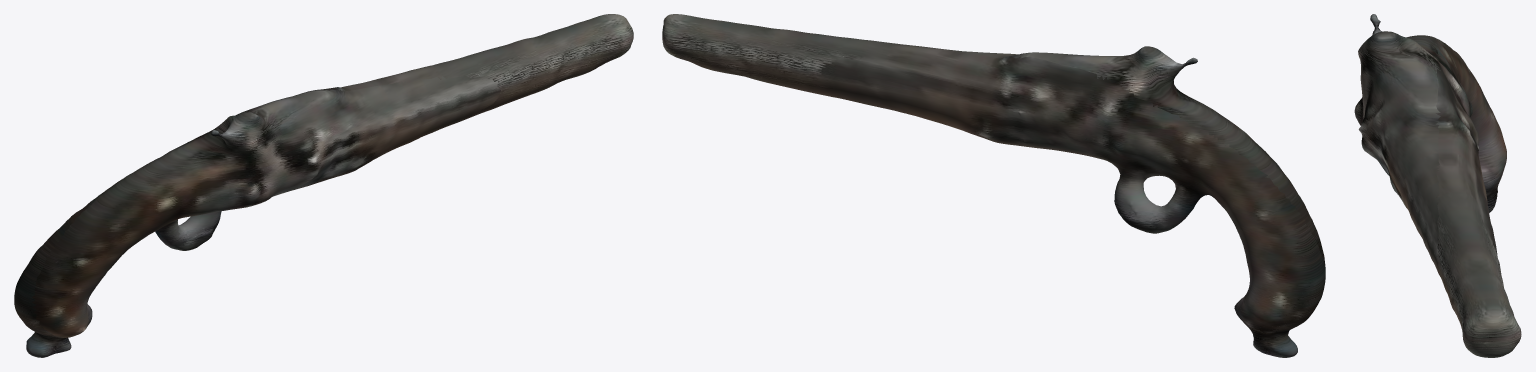
The model's file is kfl-2172.glb.
3 views of the same model, side by side, from view 1: azimuth 30°, elevation 25°; view 2: azimuth 150°, elevation 25°; view 3: azimuth 270°, elevation 25° (orthographic). The views are drawn at different scales.
Parts seen in each view (by area): view 1: geometry_0; view 2: geometry_0; view 3: geometry_0.
Part boxes in pixels (x1,y1,x2,y2): geometry_0: (14, 14, 633, 357); geometry_0: (662, 14, 1325, 357); geometry_0: (1354, 14, 1521, 357).
Size of the model in its own units: 0.9926 by 0.3498 by 0.194.
Materials: 1 (1 with a texture image).
